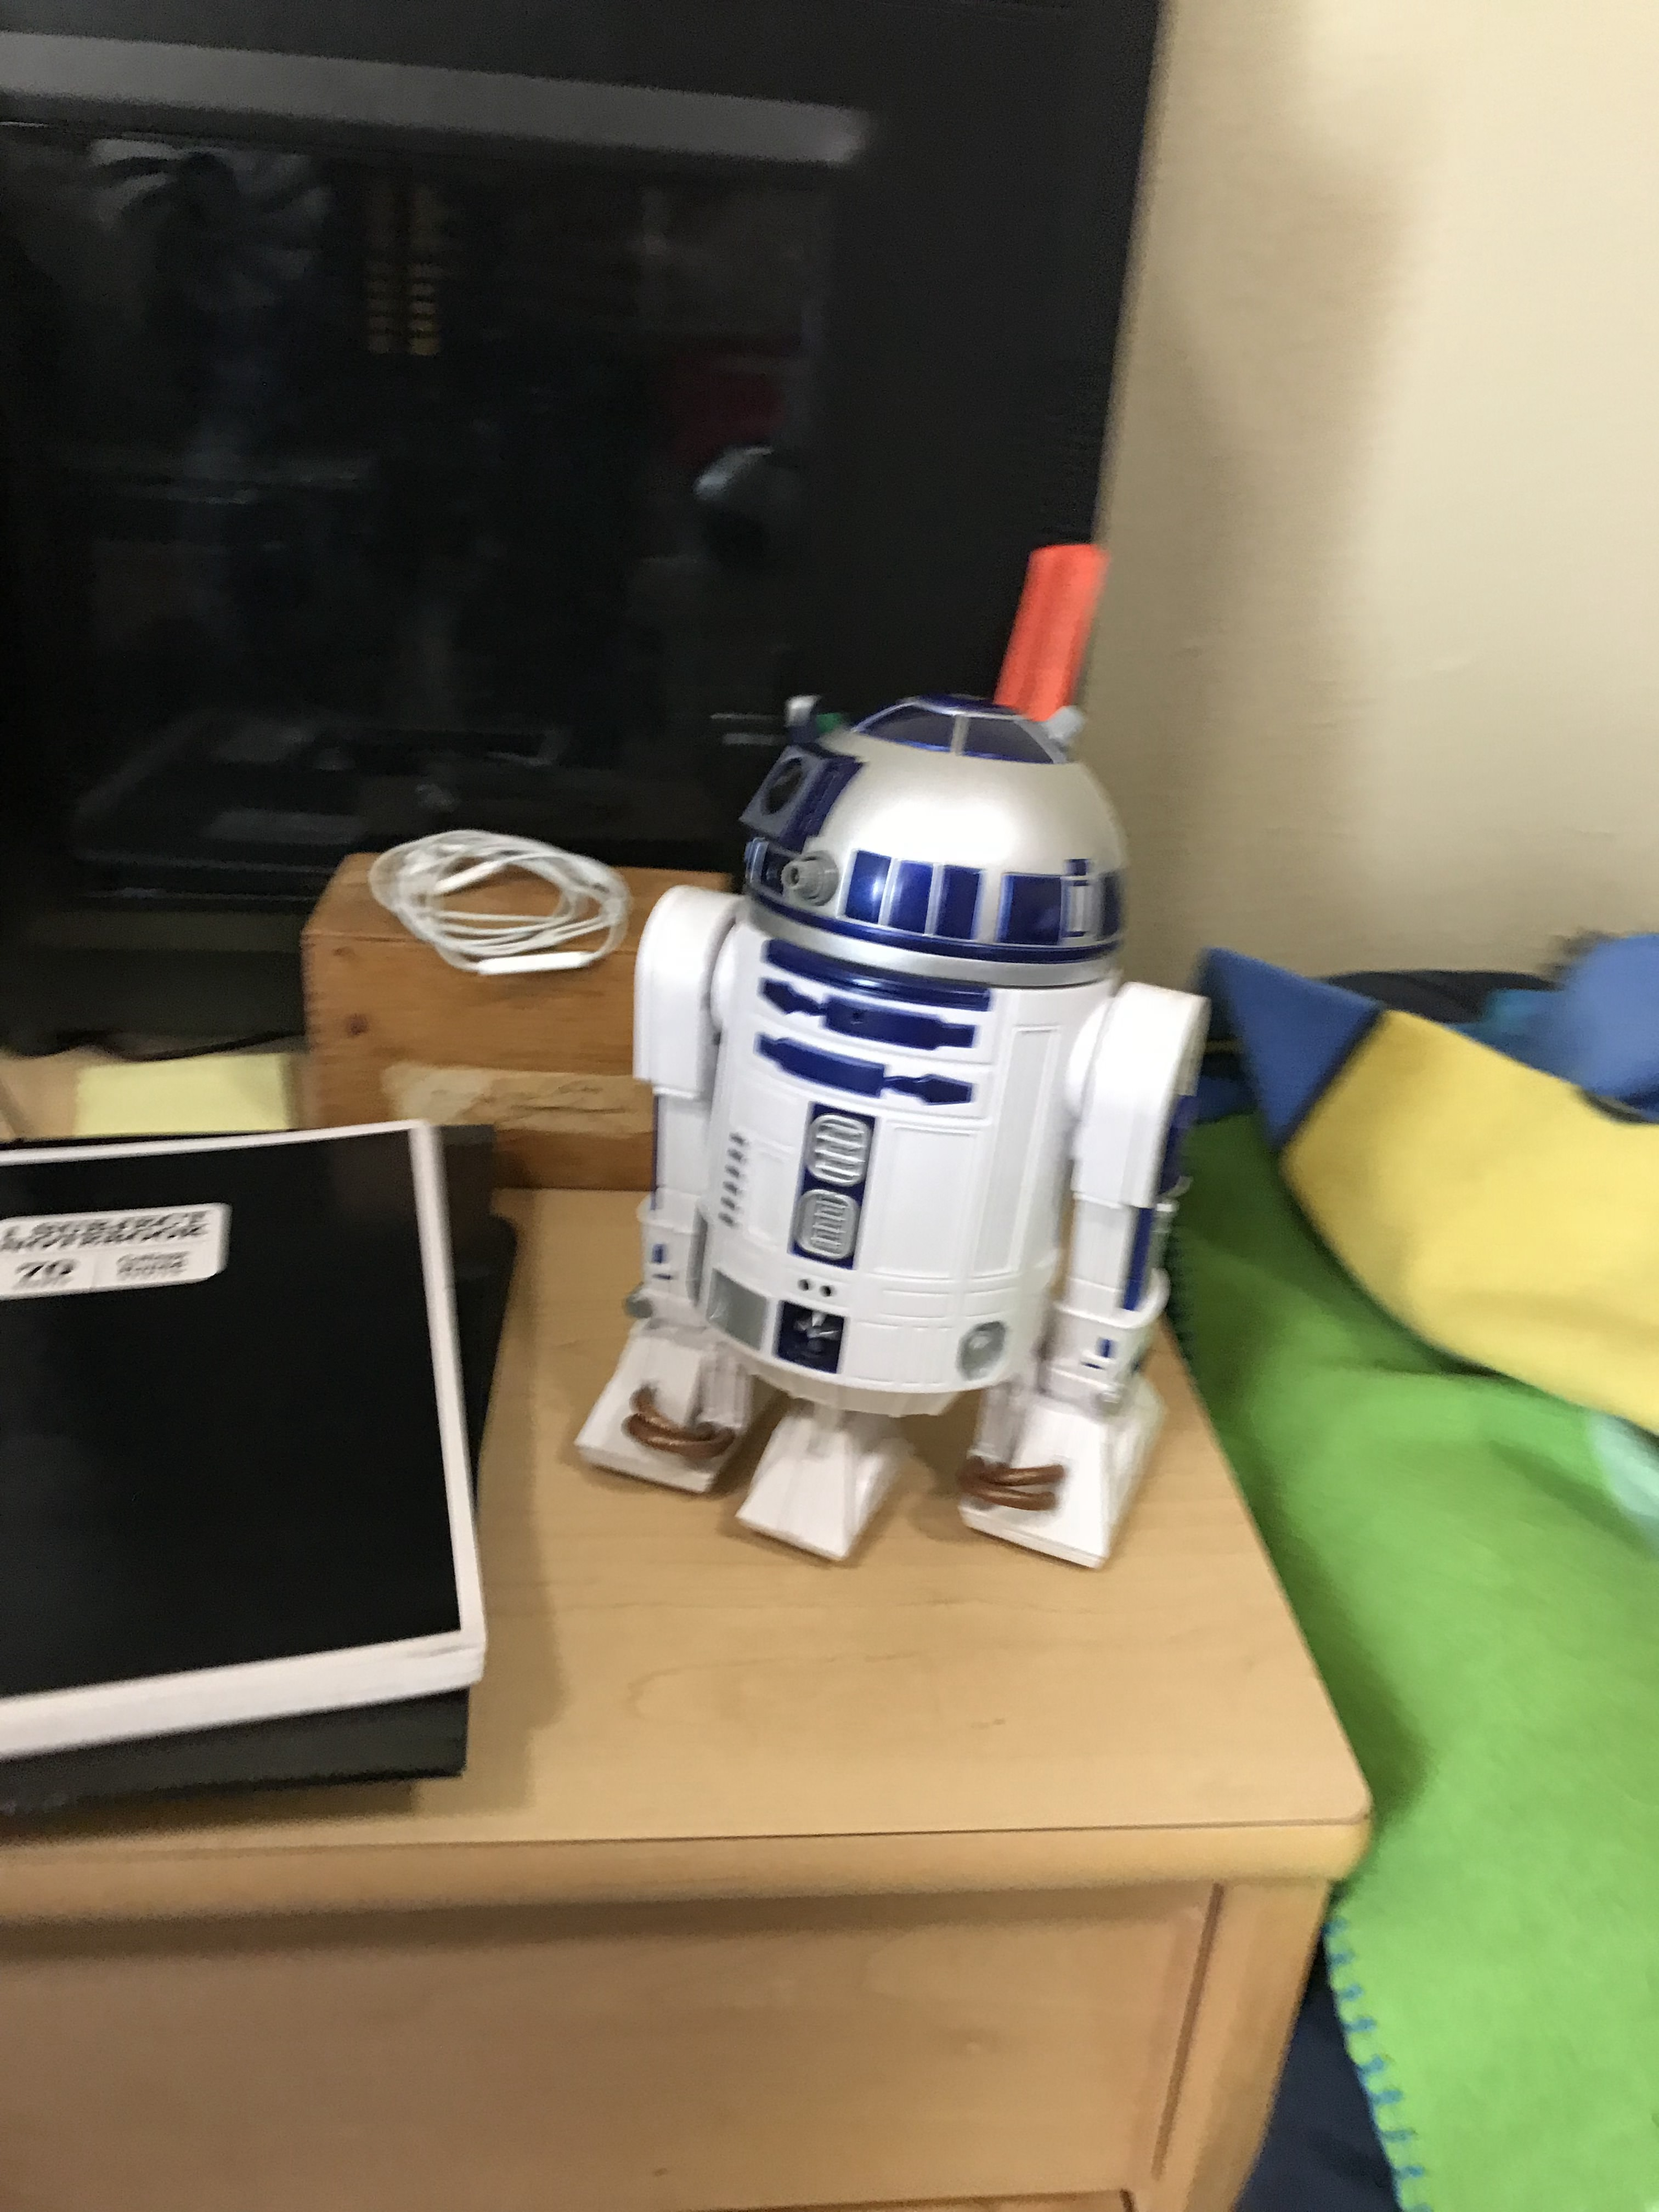r2d2: (579, 685, 1209, 1559)
